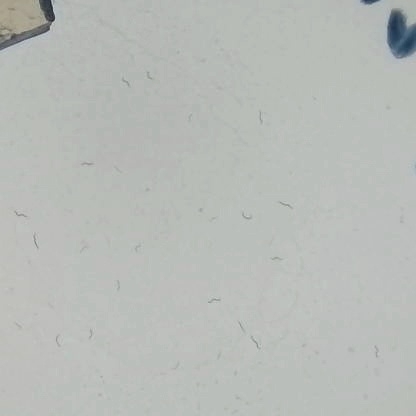worm: (22, 229, 54, 263), (251, 99, 271, 131), (234, 200, 257, 225), (0, 206, 33, 221), (273, 194, 296, 215), (201, 296, 225, 315), (71, 241, 96, 257), (76, 153, 98, 171), (108, 156, 126, 178), (137, 174, 155, 196), (128, 237, 147, 256), (264, 253, 286, 269), (52, 327, 65, 354), (166, 359, 188, 374), (142, 63, 155, 88), (229, 318, 252, 332), (369, 338, 381, 364), (115, 74, 132, 92), (9, 318, 27, 334), (248, 334, 263, 353), (109, 277, 123, 294), (84, 326, 95, 347), (216, 343, 229, 360), (182, 106, 193, 126), (204, 208, 217, 224)
